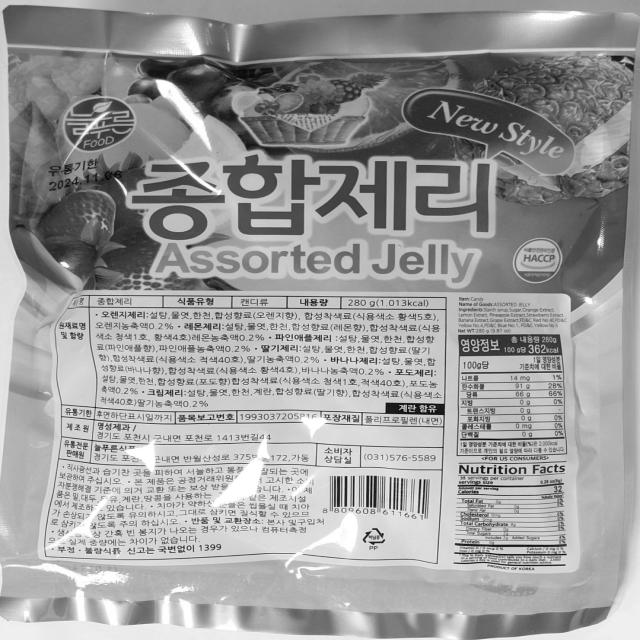Nutrition Label: (457, 331, 575, 464)
